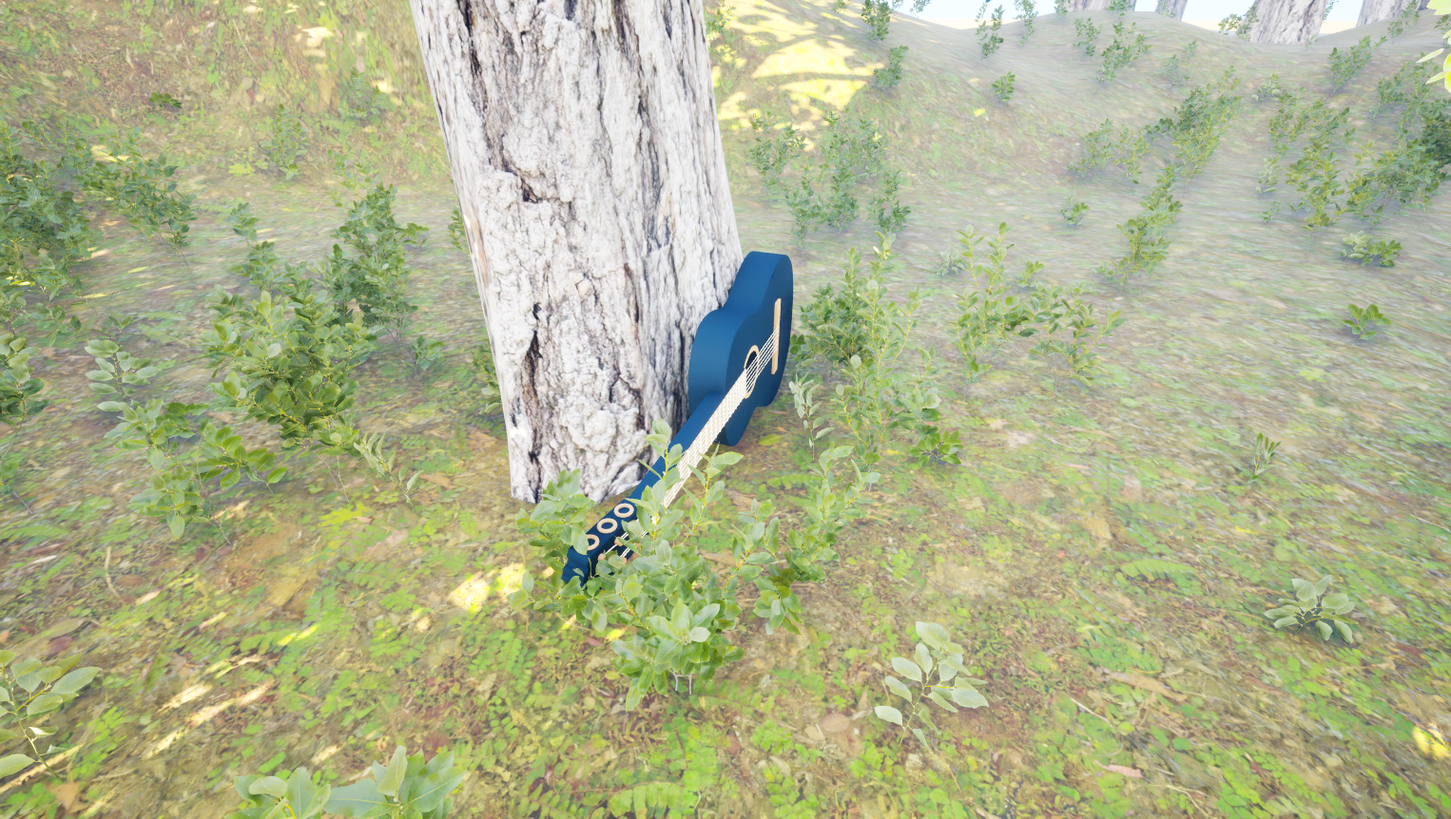Guitar: (520, 237, 800, 681)
